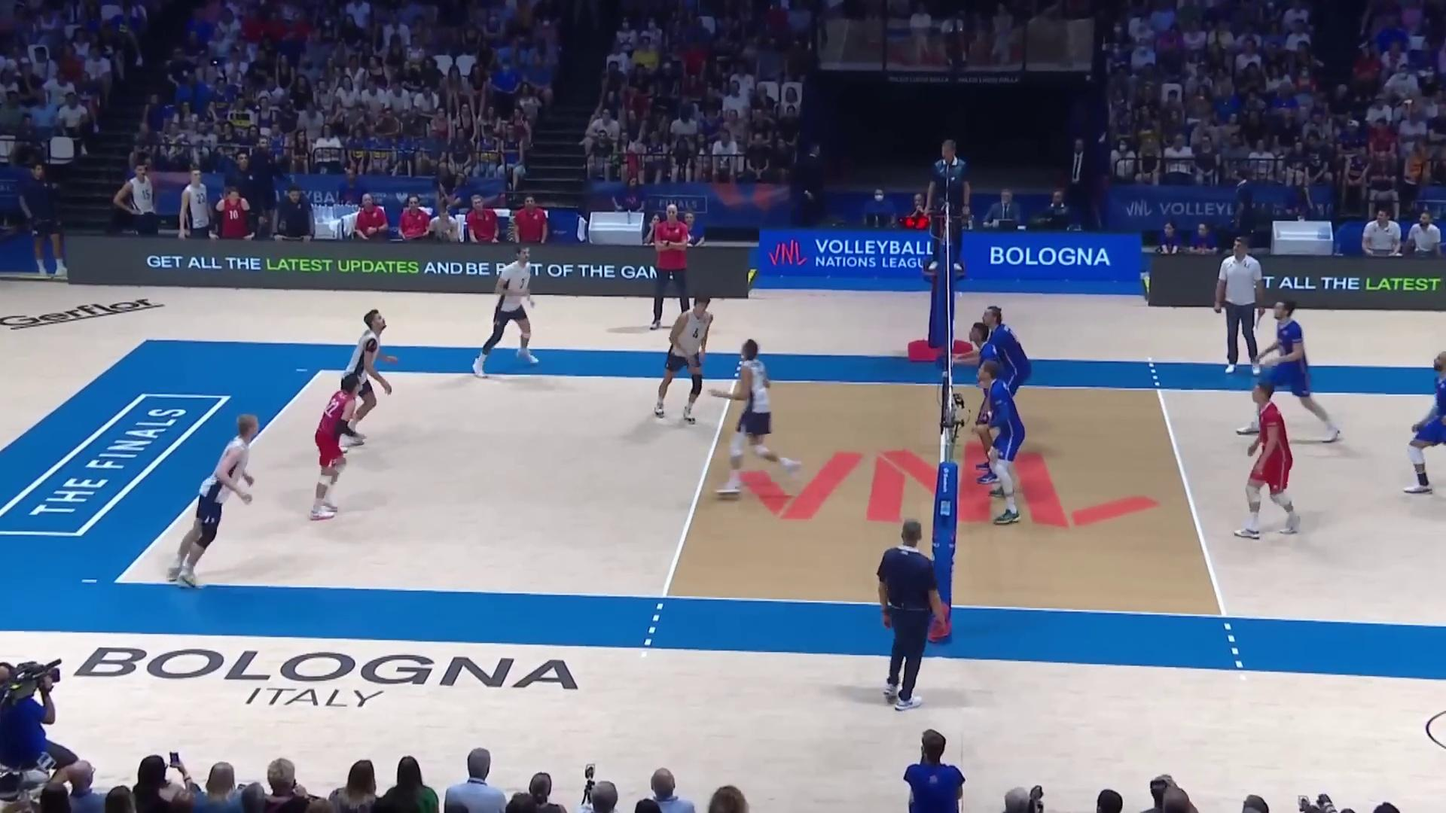player: (711, 338, 804, 497), (171, 411, 256, 584), (1255, 302, 1340, 448), (1231, 384, 1306, 536), (470, 246, 543, 375), (974, 361, 1027, 526), (311, 373, 371, 517), (654, 293, 715, 424), (341, 311, 399, 437), (963, 324, 1005, 483), (980, 306, 1033, 425), (1405, 353, 1446, 499)
refree: (878, 529, 951, 710), (929, 140, 971, 274)
